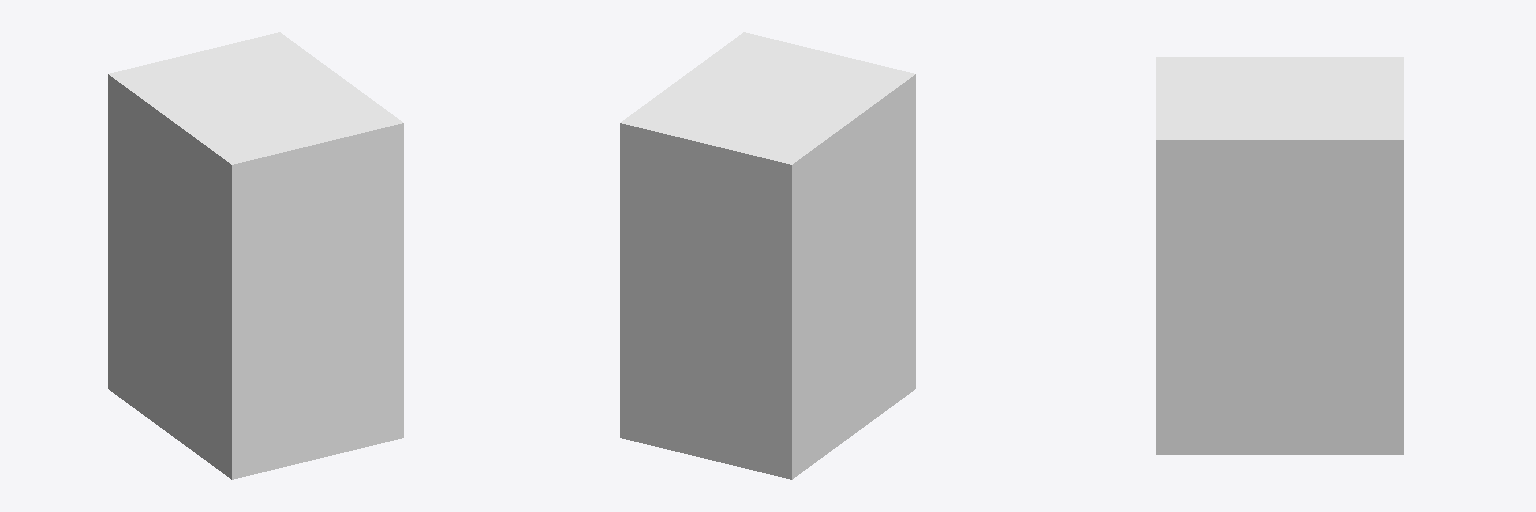
File: skyscraper1.obj
The picture shows the model from 3 angles: view 1: azimuth 30°, elevation 25°; view 2: azimuth 150°, elevation 25°; view 3: azimuth 270°, elevation 25°; orthographic projection.
Parts seen in each view (by area): view 1: object 1; view 2: object 1; view 3: object 1.
Part boxes in pixels (x1,y1,x2,y2): object 1: (108, 32, 403, 479); object 1: (620, 32, 915, 479); object 1: (1156, 57, 1403, 454).
Size of the model in its own units: 0.4 by 0.7 by 0.5.